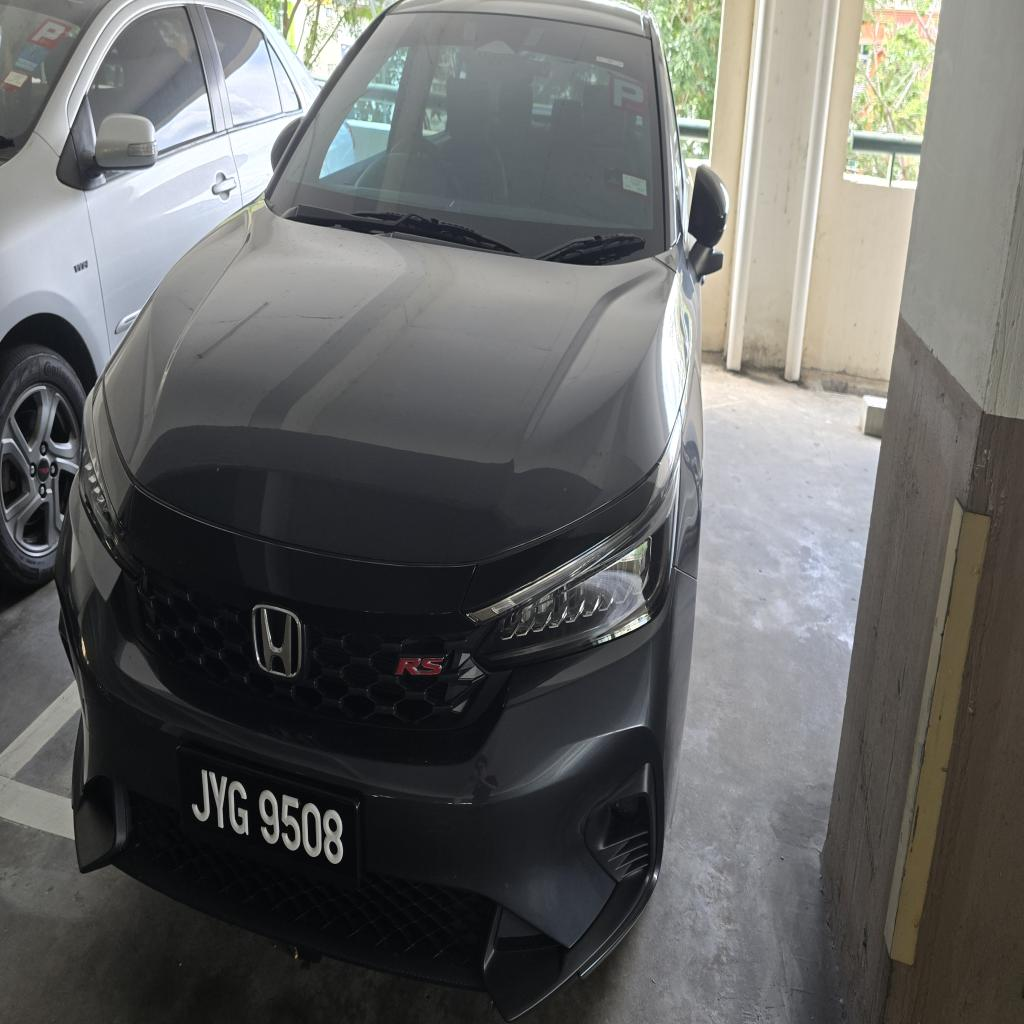car: (57, 0, 726, 1019)
car plate: (179, 748, 359, 886)
